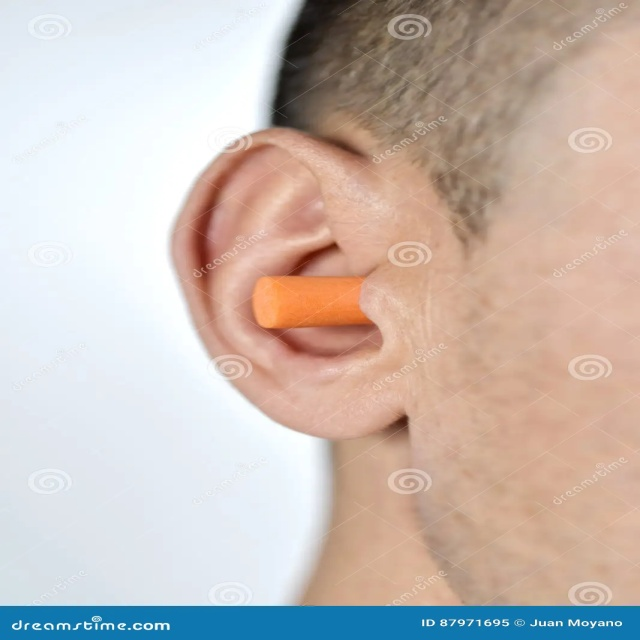Hearing_Protection: (261, 285, 396, 338)
